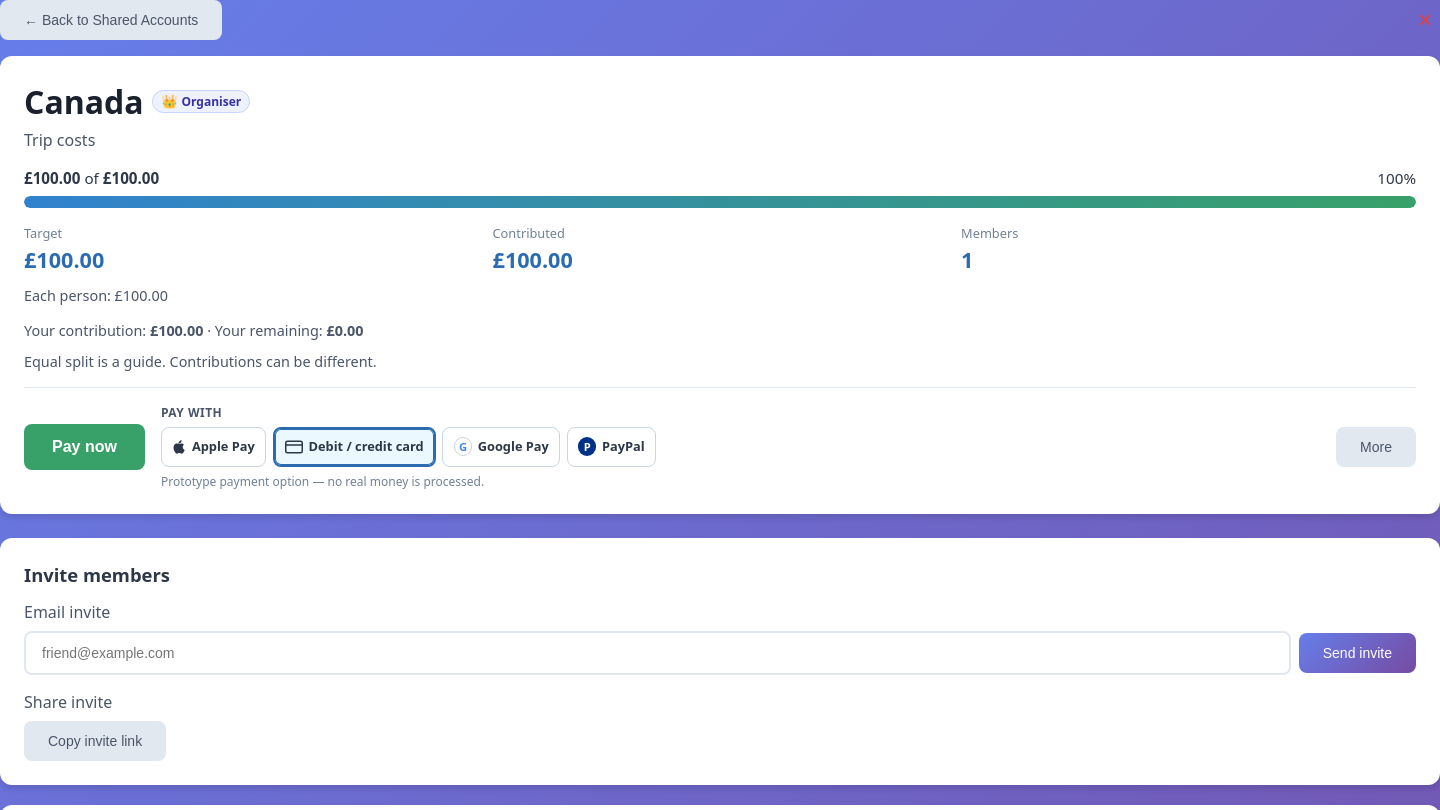
Test: SharedAccountDetail sole-owner final payment › shows Pay now on a fully funded sole-owner account and completes without waiting or self-approval
Step 1. Click the button "Pay now" → (84, 447), box [24, 424, 145, 470]
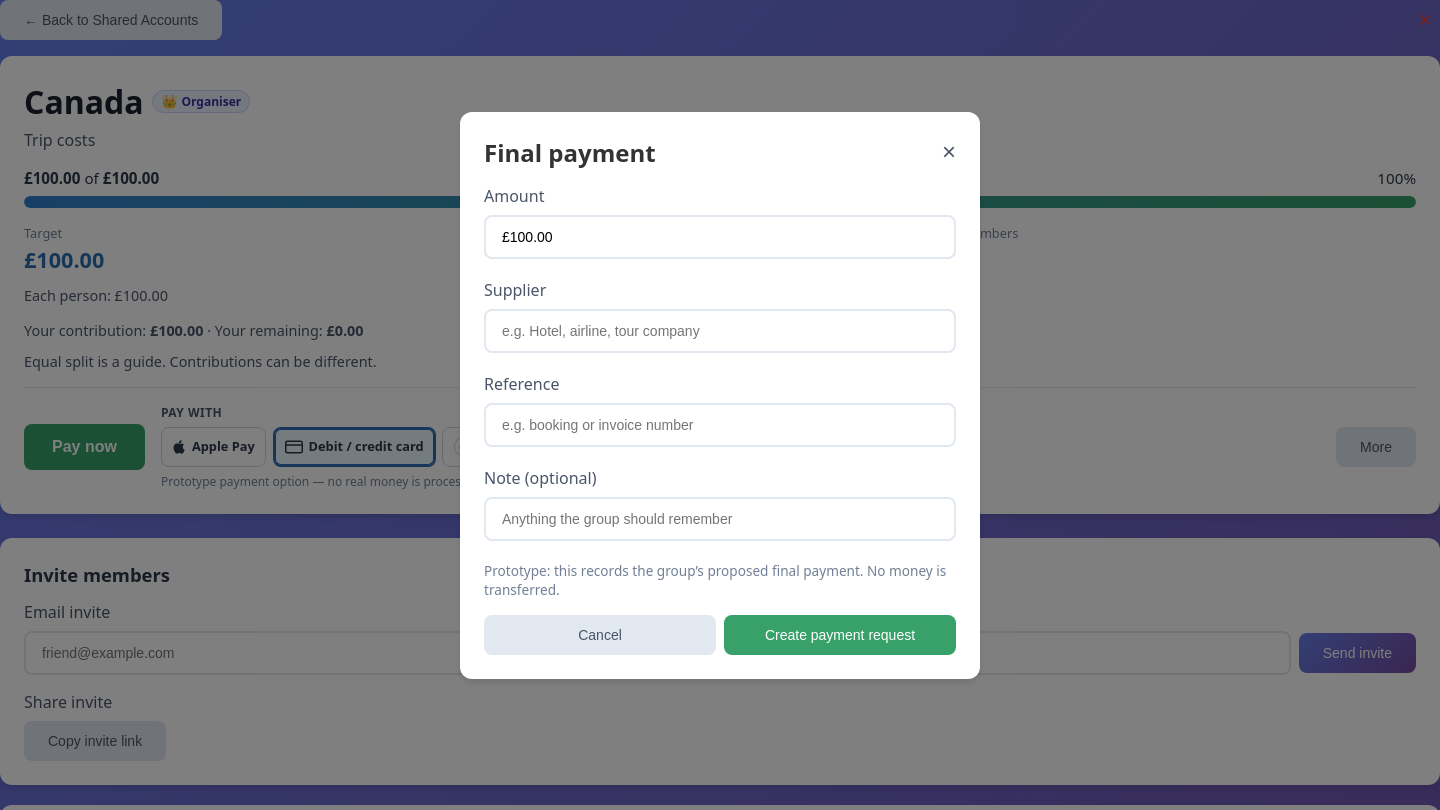
Step 2. Type "Hotel Solo" into the field labelled "Supplier" → (720, 330), box [484, 308, 956, 352]
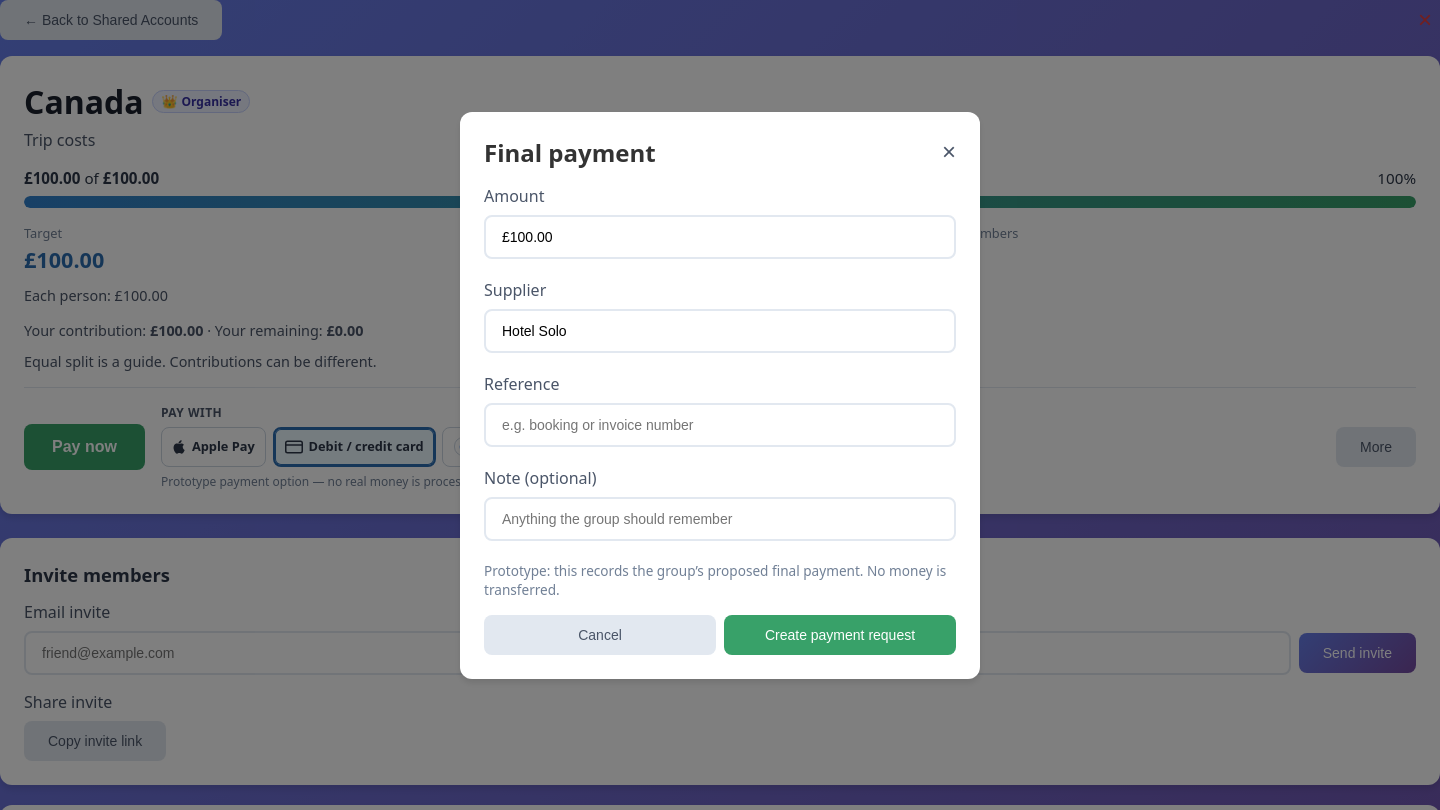
Step 3. Type "SOLO-1" into the field labelled "Reference" → (720, 424), box [484, 402, 956, 446]
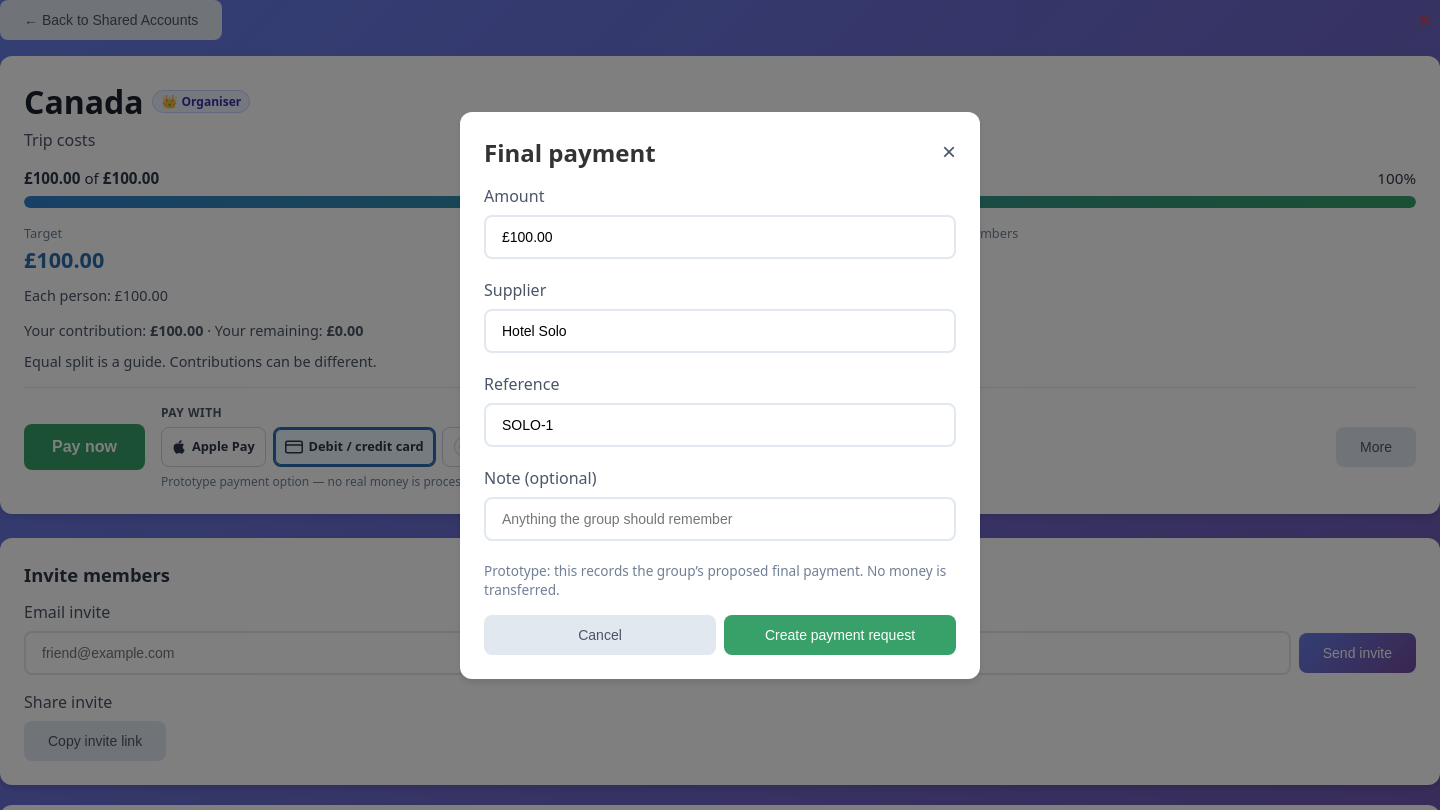
Step 4. Submit the form labelled "Supplier", box [484, 184, 956, 654]
(page scrolled)
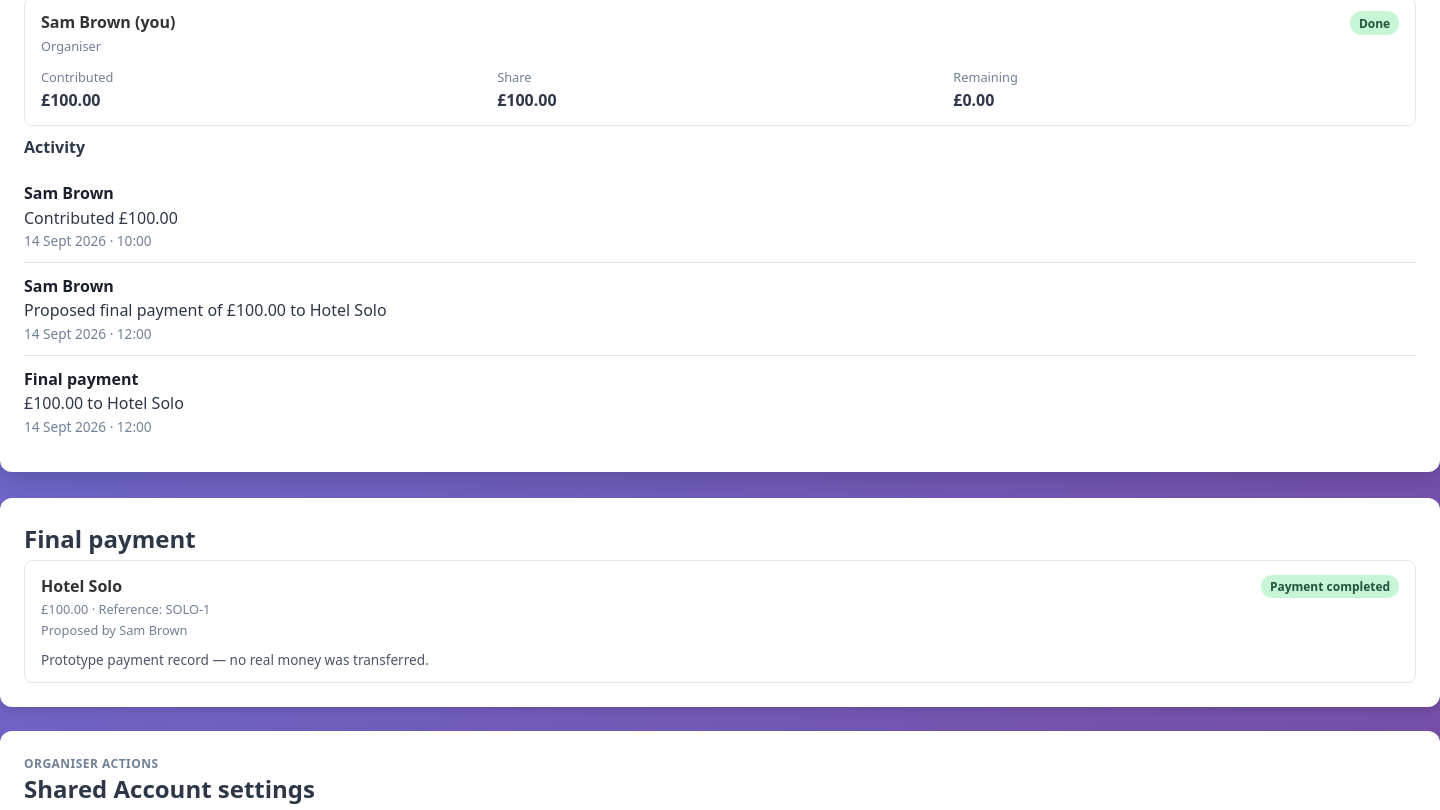
Check: the button "Pay now" is gone
Check: the text "Proposed final payment of £100.00 to Hotel Solo" is shown, box [24, 300, 387, 322]
Check: the text "Final payment" is shown, box [24, 368, 138, 390]
